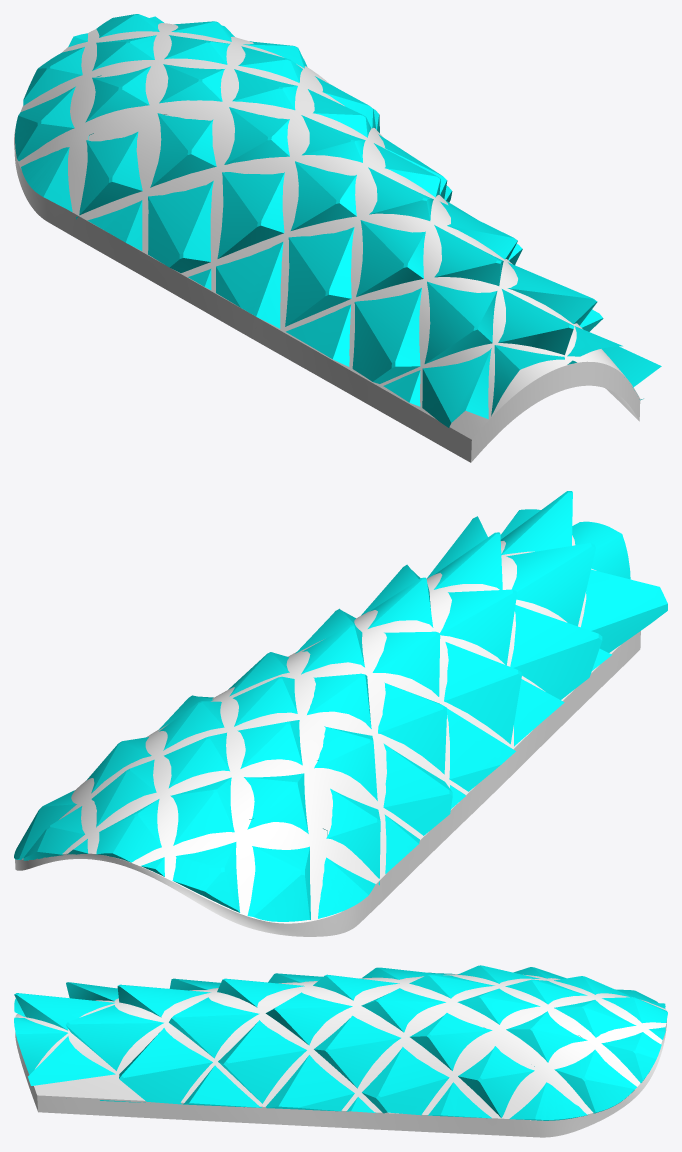
File: dragon-scale-coffin-full.glb
3 views of the same model, one above another, from view 1: azimuth 30°, elevation 25°; view 2: azimuth 150°, elevation 25°; view 3: azimuth 270°, elevation 25° (orthographic). The views are drawn at different scales.
Parts seen in each view (by area): view 1: MW 1.0 534480 US, object 1; view 2: MW 1.0 534480 US, object 1; view 3: MW 1.0 534480 US, object 1.
Part boxes in pixels (x1,y1,x2,y2): MW 1.0 534480 US: (15,14,661,427); object 1: (14,23,640,462); MW 1.0 534480 US: (14,491,667,921); object 1: (15,535,640,936); MW 1.0 534480 US: (14,965,667,1120); object 1: (15,974,666,1137).
Size of the model in its own units: 0.0144 by 0.00644 by 0.0351.
